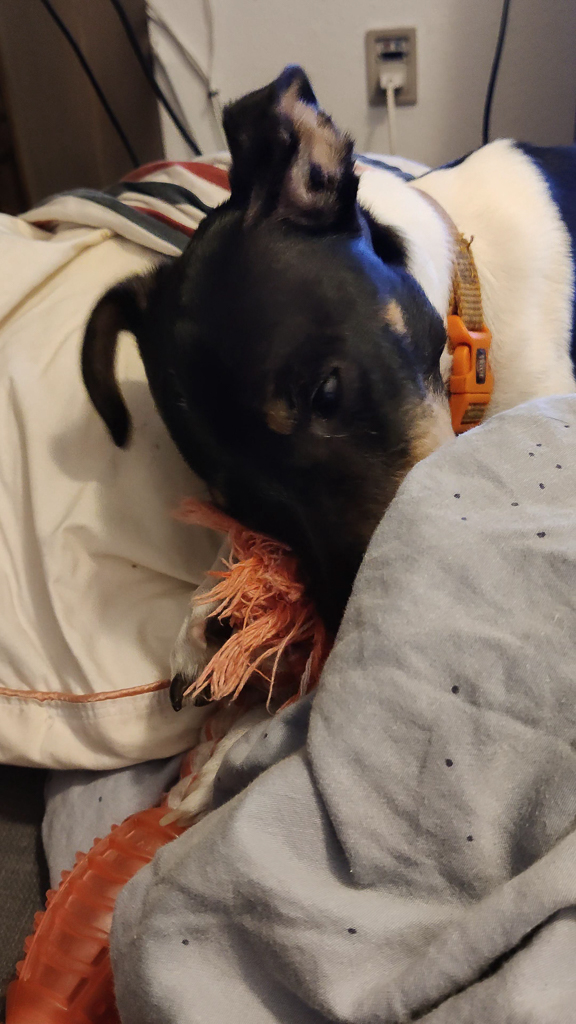Dog: (68, 47, 576, 854)
